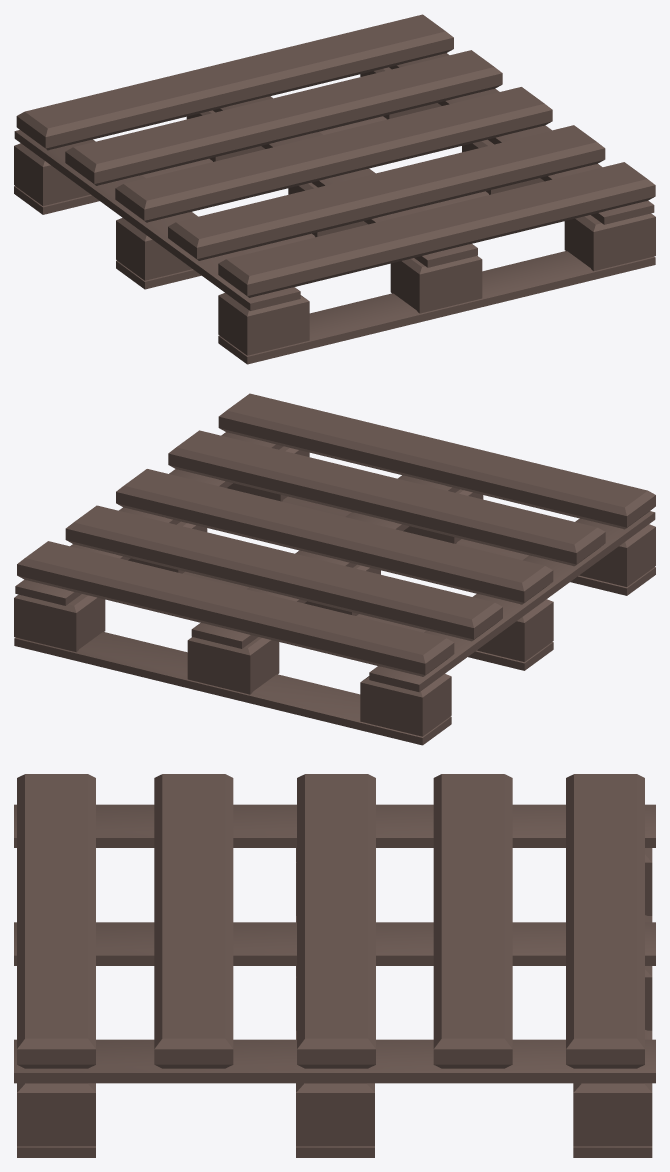
Rendered from props_49.glb.
3 views of the same model, one above another, from view 1: azimuth 30°, elevation 25°; view 2: azimuth 150°, elevation 25°; view 3: azimuth 270°, elevation 25° (orthographic). The views are drawn at different scales.
Visible parts, largest first — view 1: props_49; view 2: props_49; view 3: props_49.
Boxes of the visible parts, x1,y1,x2,y2 form: props_49: (14,14,655,364); props_49: (14,393,655,745); props_49: (14,774,655,1157).
Bounding box in the file's own units: 2 × 0.4085 × 2.
1 material, 1 textured.
